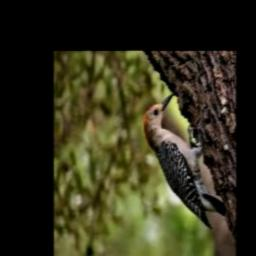Woodpecker: (144, 92, 226, 230)
